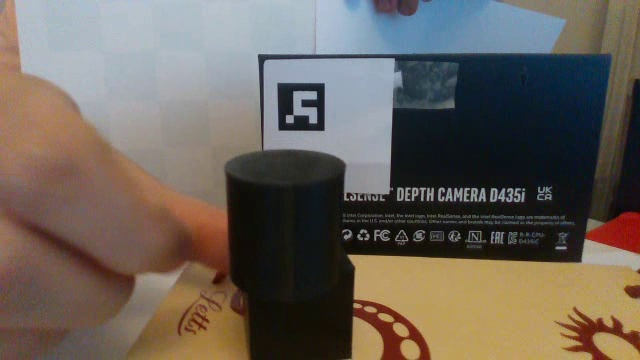cube: (235, 253, 362, 360)
cylindre: (212, 142, 353, 302)
